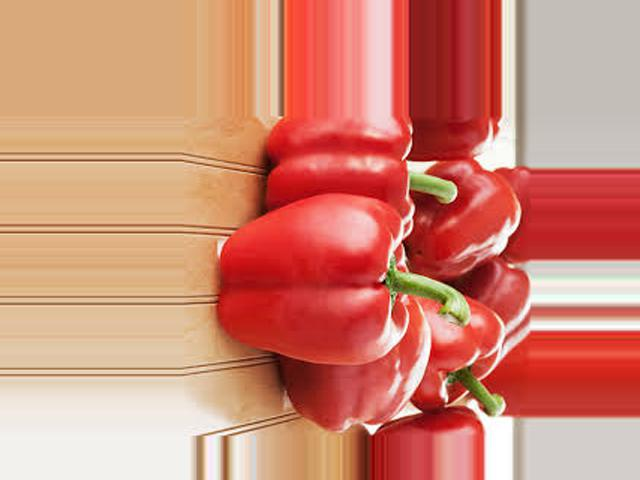bell_pepper: (403, 296, 507, 422)
